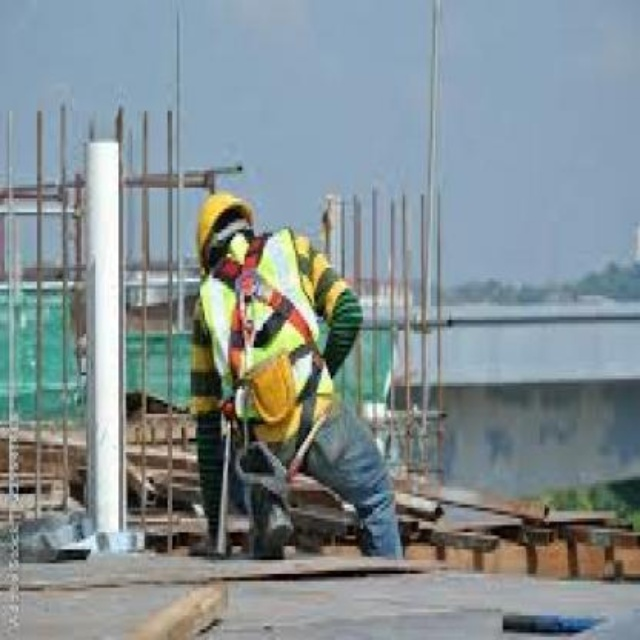Arnes_seguridad: (208, 228, 325, 472)
